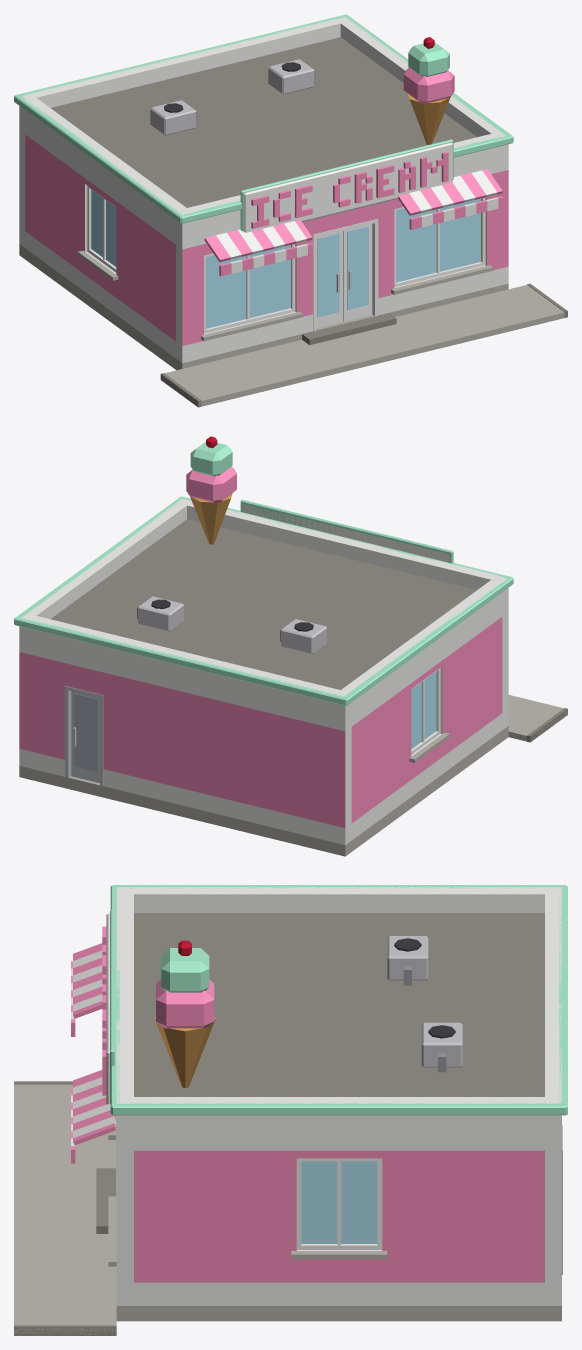
The model's file is IceCreamParlor.fbx.
The picture shows the model from 3 angles, top to bottom: view 1: azimuth 30°, elevation 25°; view 2: azimuth 150°, elevation 25°; view 3: azimuth 270°, elevation 25°; orthographic projection. The views are drawn at different scales.
Visible parts, largest first — view 1: IceCreamParlor, IceCreamParlor_Roof, IceCreamParlor_Glass, IceCreamParlor_Sign, IceCreamParlor_DoorR, IceCreamParlor_DoorL; view 2: IceCreamParlor, IceCreamParlor_Roof, IceCreamParlor_Sign, IceCreamParlor_BackDoor, IceCreamParlor_Glass; view 3: IceCreamParlor, IceCreamParlor_Roof, IceCreamParlor_Glass, IceCreamParlor_Sign.
Boxes of the visible parts, x1,y1,x2,y2 form: IceCreamParlor: (14,14,567,407); IceCreamParlor_Roof: (51,37,476,207); IceCreamParlor_Glass: (91,190,480,328); IceCreamParlor_Sign: (240,139,453,232); IceCreamParlor_DoorR: (343,224,372,321); IceCreamParlor_DoorL: (316,231,342,328); IceCreamParlor: (14,496,567,856); IceCreamParlor_Roof: (50,436,476,689); IceCreamParlor_Sign: (240,499,453,563); IceCreamParlor_BackDoor: (71,691,99,782); IceCreamParlor_Glass: (411,672,436,748); IceCreamParlor: (14,885,567,1335); IceCreamParlor_Roof: (134,913,544,1096); IceCreamParlor_Glass: (301,1161,377,1243); IceCreamParlor_Sign: (102,910,114,1104).
Bounding box in the file's own units: 34 × 22.1 × 32.35.
1 material, 1 textured.
